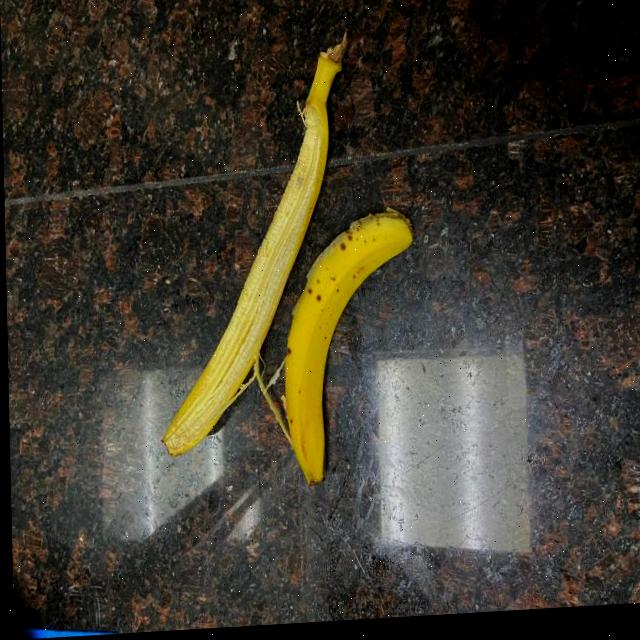banana: (156, 44, 389, 487)
